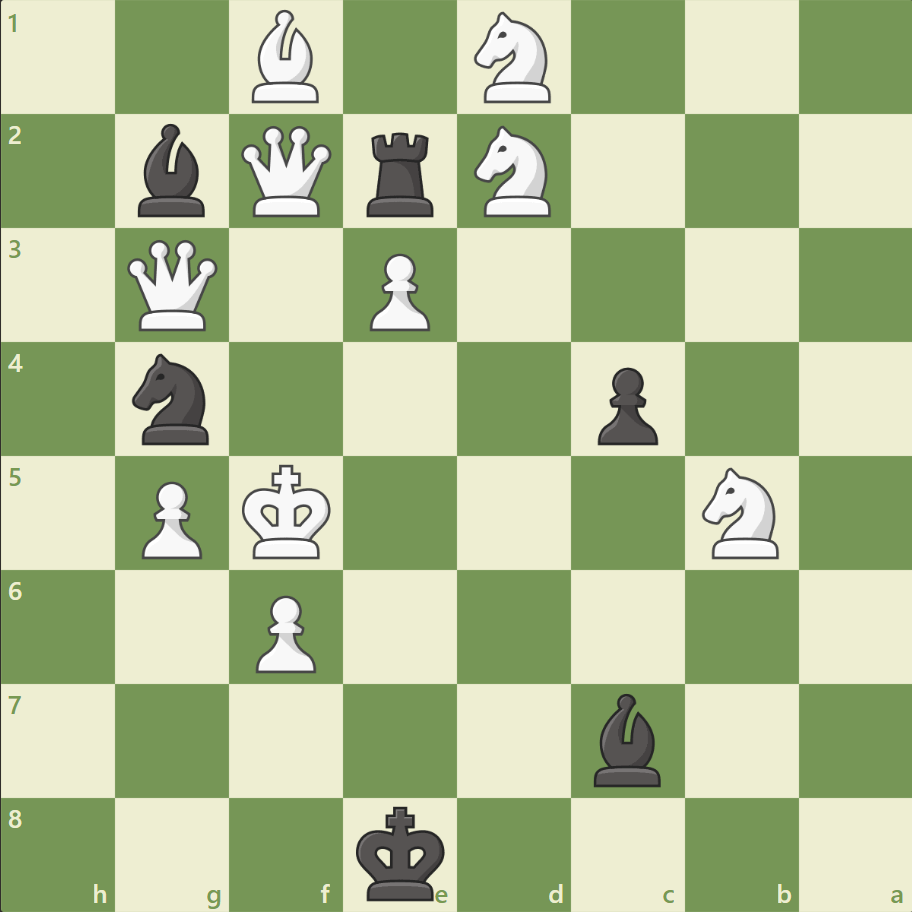B: (244, 6, 328, 109)
K: (238, 458, 338, 566)
N: (692, 461, 789, 564), (465, 7, 562, 110), (465, 121, 562, 223)
P: (247, 586, 322, 677), (133, 473, 208, 564), (361, 246, 435, 337)
Q: (237, 122, 336, 222), (124, 236, 223, 335)
b: (585, 687, 669, 790), (131, 120, 215, 222)
k: (351, 798, 451, 906)
n: (124, 348, 222, 450)
p: (588, 359, 662, 450)
r: (360, 125, 442, 222)
